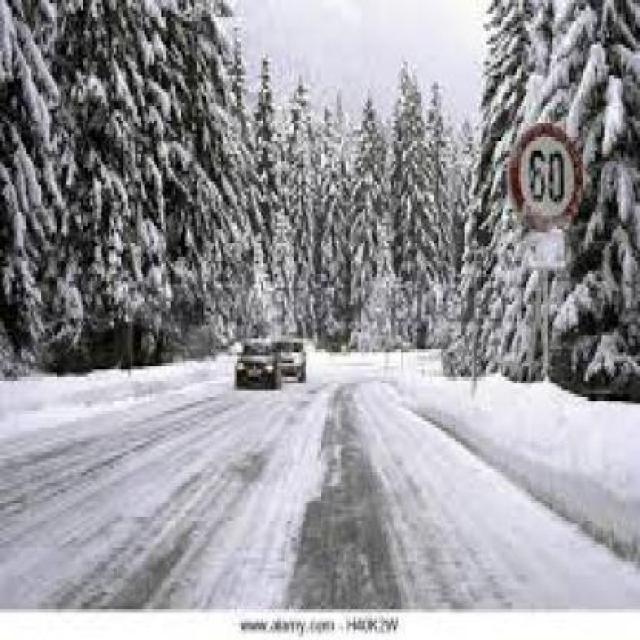forb_speed_over_60: (512, 127, 580, 227)
